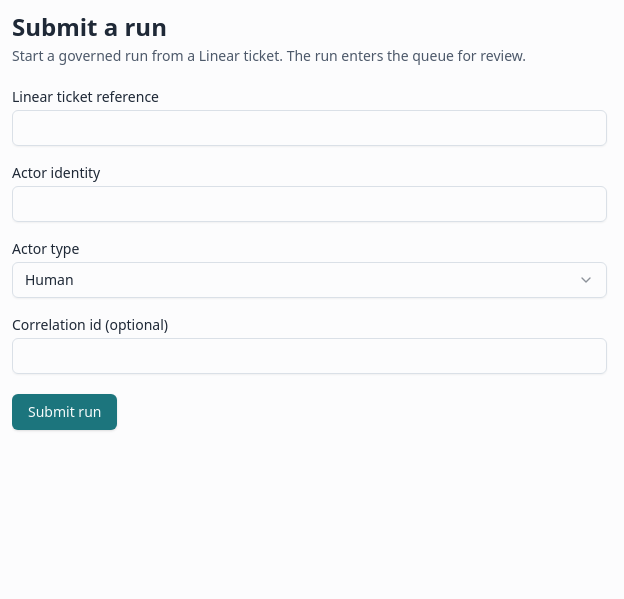
Scenario: SubmitRunForm — post-submit lifecycle (review fixes D1/D2) › clears the error surface when a field is edited after a failure (D1)
The width and height of the screenshot is (624, 599).
Type "LIN-2210" into the field labelled "Linear ticket reference" at (309, 128), box [12, 110, 607, 146]
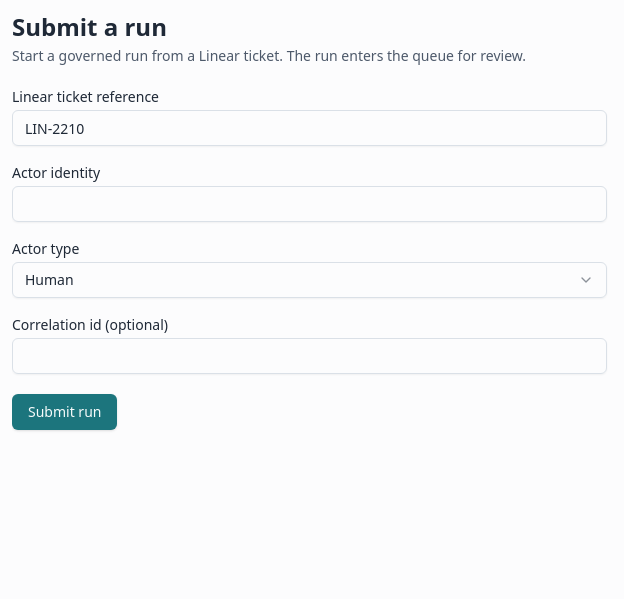
Type "alex@example.com" into the field labelled "Actor identity" at (309, 204), box [12, 186, 607, 222]
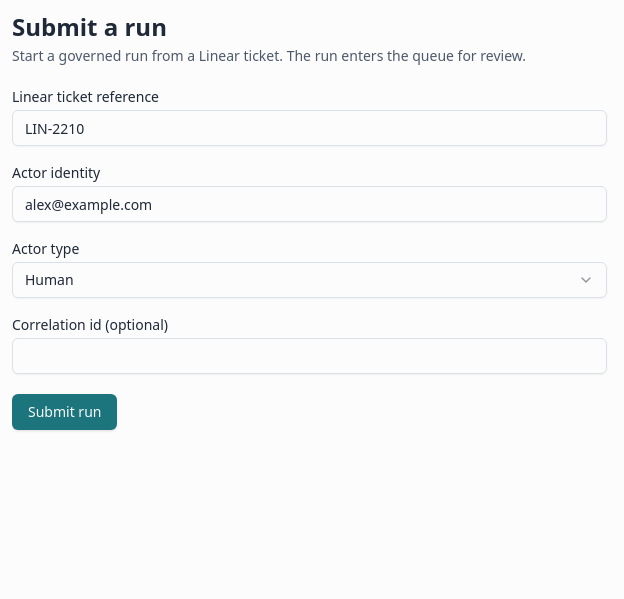
Click the button with test id "submit-run-button" at (65, 412), box [12, 394, 117, 430]
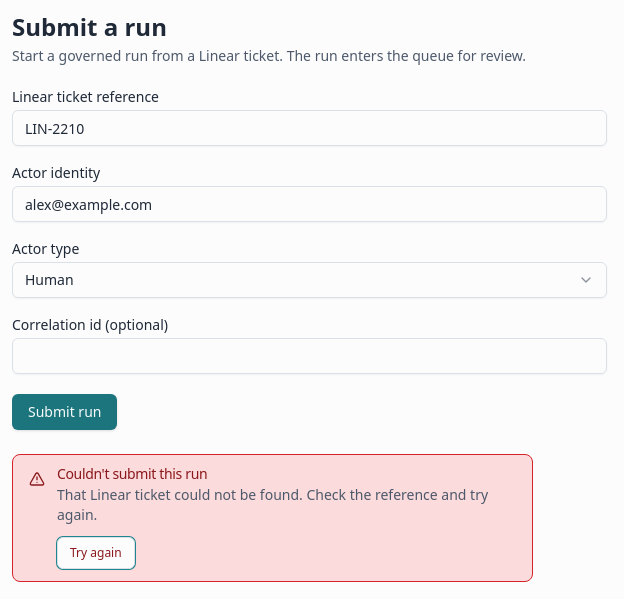
Expected: the element with test id "submit-error" is shown, [12, 454, 607, 582]
Replace the text in the field labelled "Linear ticket reference" with "LIN-2211" at (309, 128), box [12, 110, 607, 146]
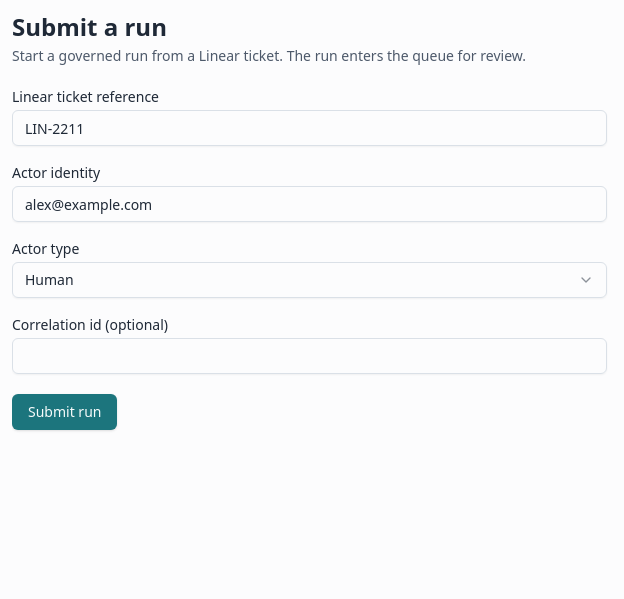
Expected: the element with test id "submit-error" is gone
